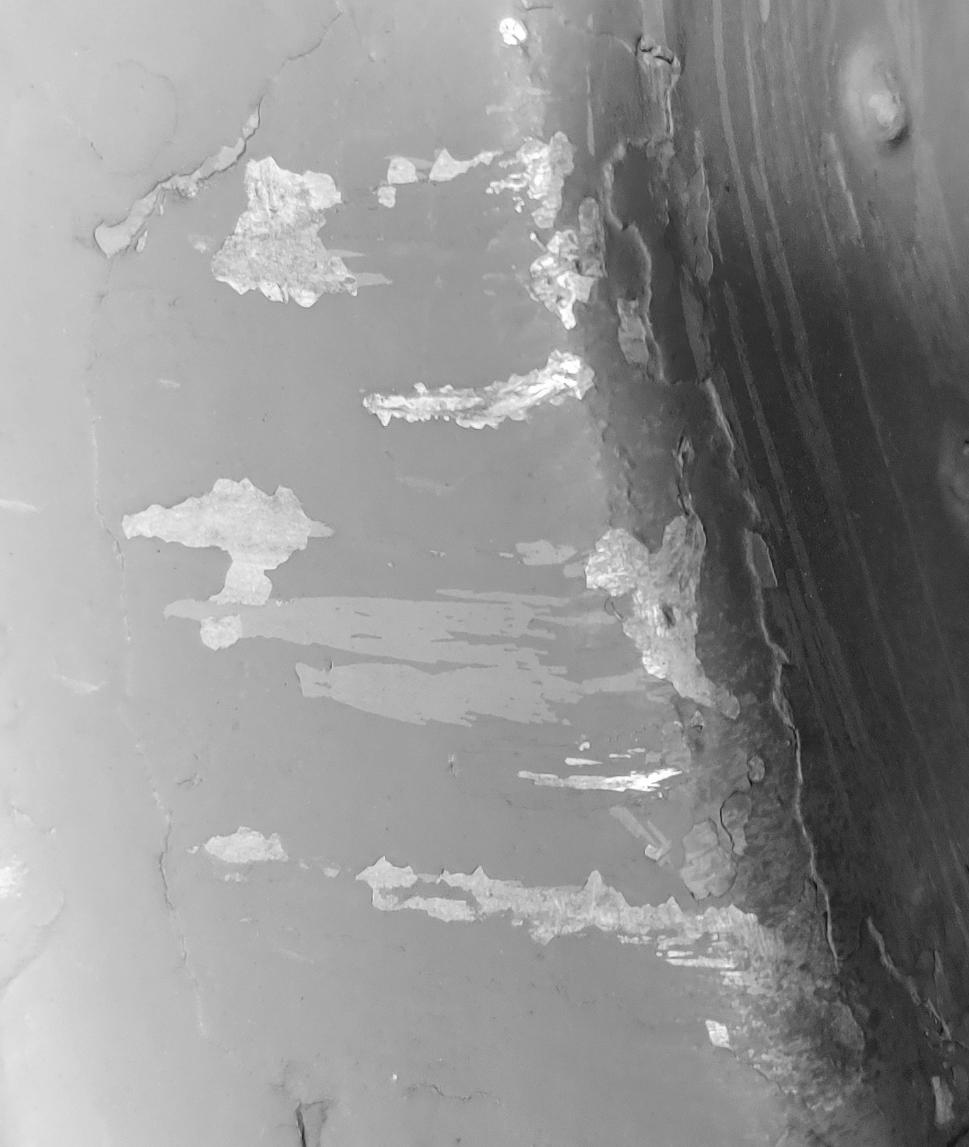paint-off: (0, 1, 969, 1147)
